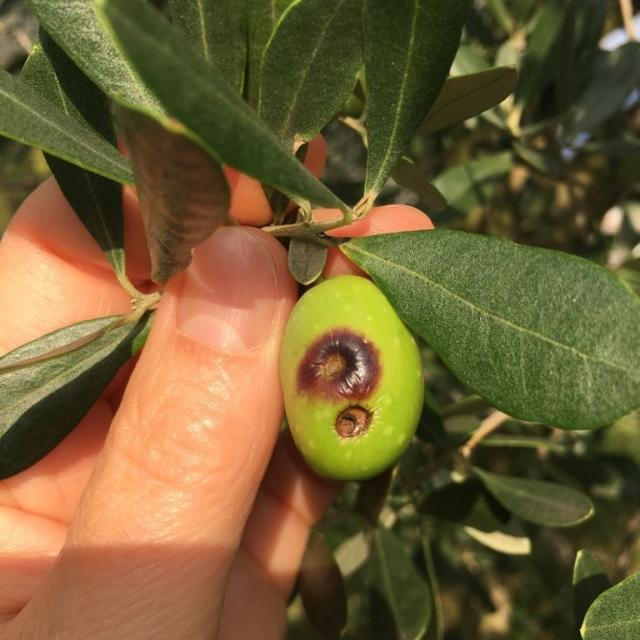Anthracnose: (280, 276, 424, 480)
